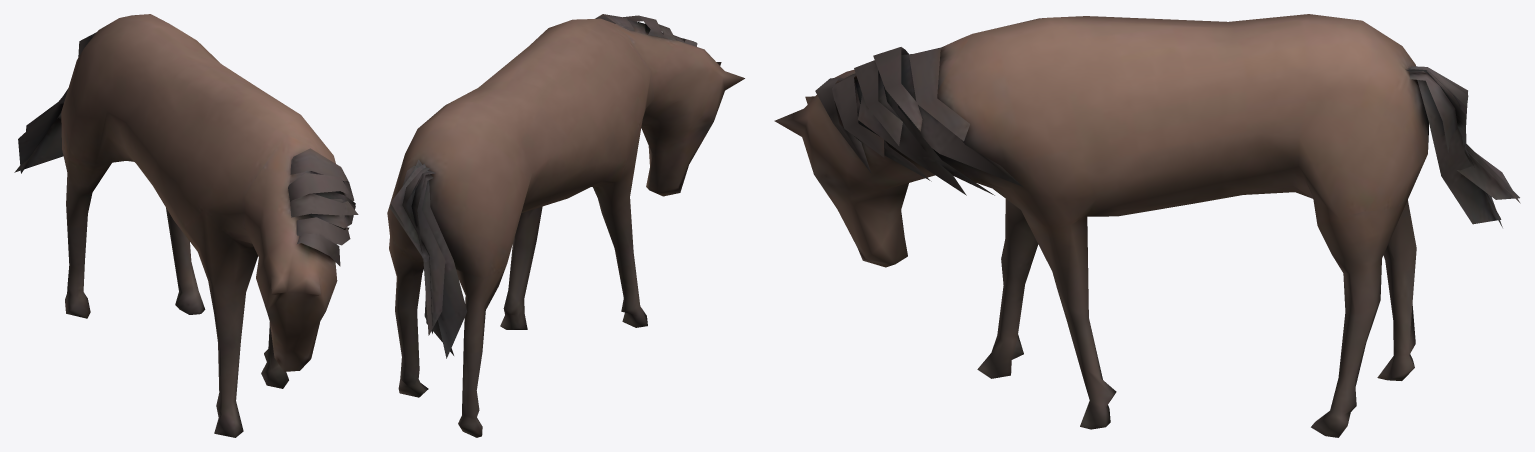
The model's file is Horses.glb.
3 views of the same model, side by side, from view 1: azimuth 30°, elevation 25°; view 2: azimuth 150°, elevation 25°; view 3: azimuth 270°, elevation 25° (orthographic). The views are drawn at different scales.
Parts seen in each view (by area): view 1: horse_low; view 2: horse_low; view 3: horse_low.
Boxes of the visible parts, bbox=[...] form: horse_low: bbox=[14, 14, 358, 437]; horse_low: bbox=[387, 14, 744, 437]; horse_low: bbox=[774, 14, 1520, 437].
Size of the model in its own units: 0.8256 by 1.57 by 2.78.
1 material, 1 textured.
